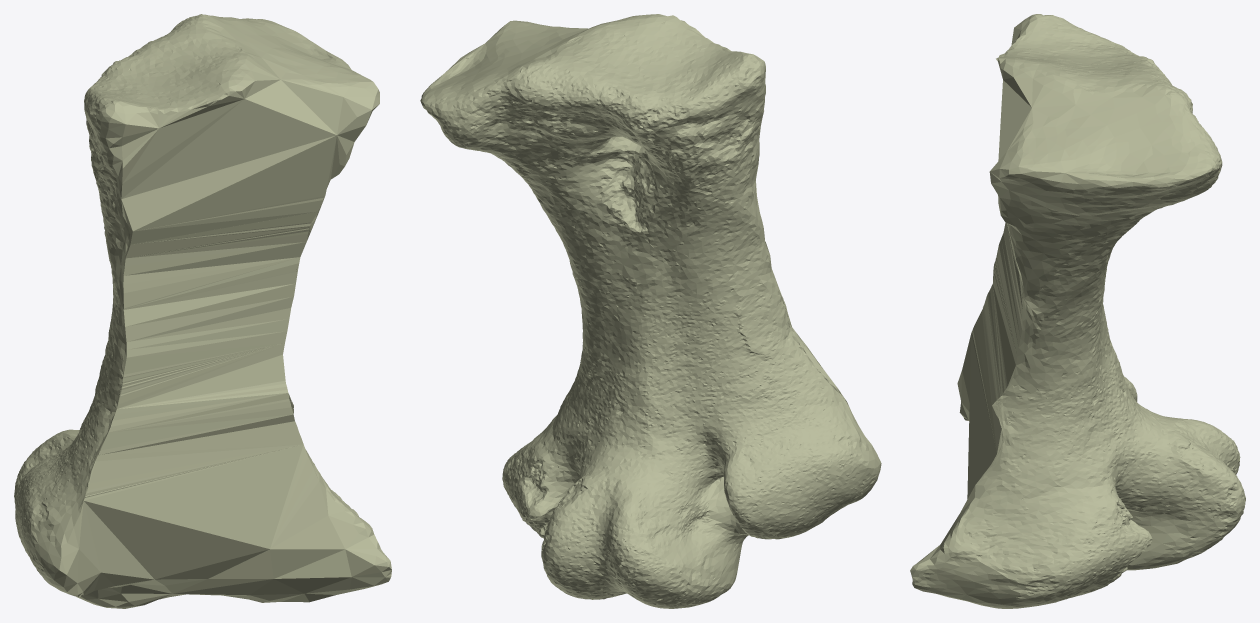
Rendered from tinker.obj.
3 views of the same model, side by side, from view 1: azimuth 30°, elevation 25°; view 2: azimuth 150°, elevation 25°; view 3: azimuth 270°, elevation 25° (orthographic). The views are drawn at different scales.
Parts seen in each view (by area): view 1: obj_0; view 2: obj_0; view 3: obj_0.
Part boxes in pixels (bbox=[...]): obj_0: bbox=[14, 14, 391, 608]; obj_0: bbox=[420, 14, 881, 608]; obj_0: bbox=[910, 14, 1245, 608].
Size of the model in its own units: 706 by 991 by 584.
